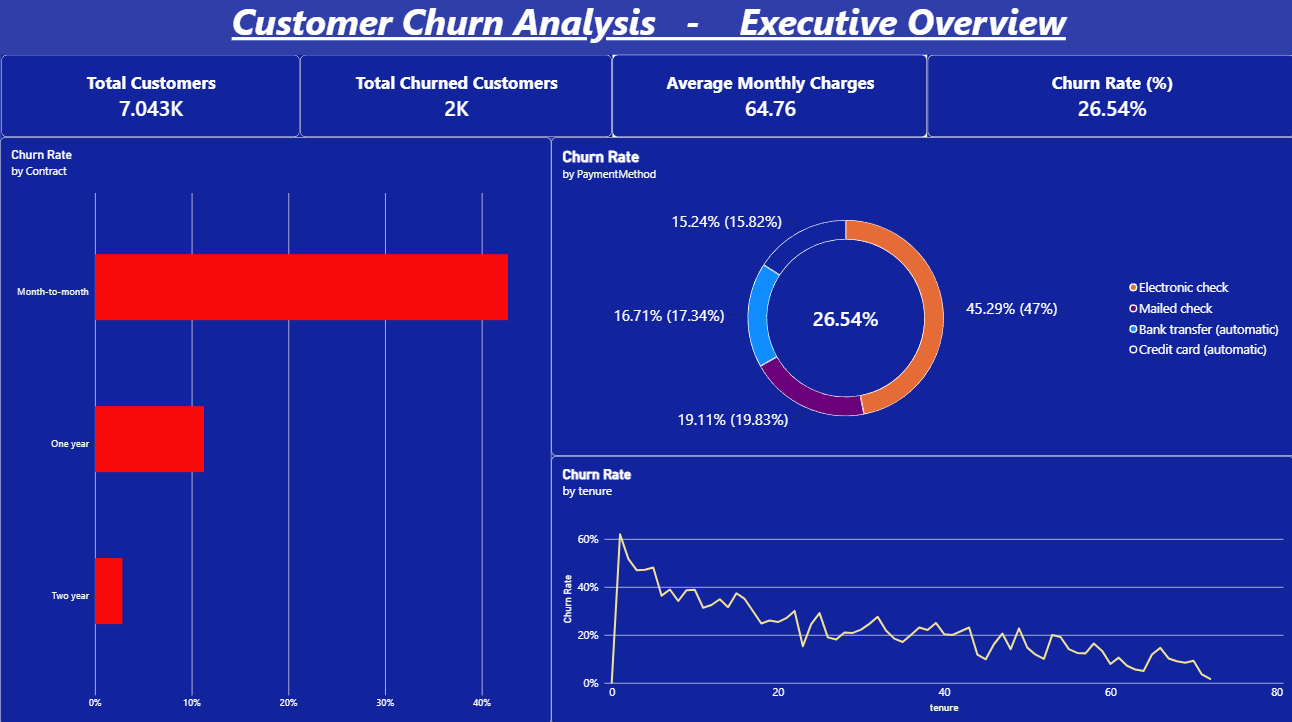

What the dashboard file says about the page in this screenshot:
{"tool":"powerbi","page":{"name":"Executive Overview","canvas":[1920,1080],"ordinal":0},"visuals":[{"type":"cardVisual","title":"Total Customers","fields":{"Data":["CountNonNull(Cleaned_telco_churn.customerID)"]},"box":[1.9,87,442.6,122.2],"z":2},{"type":"cardVisual","fields":{"Data":["Sum(Cleaned_telco_churn.Churn_Numeric)"]},"box":[444.4,87,463,122.2],"z":3},{"type":"cardVisual","fields":{"Data":["Avg(Cleaned_telco_churn.MonthlyCharges)"]},"box":[907.4,87,466.7,122.2],"z":4},{"type":"cardVisual","fields":{"Data":["Cleaned_telco_churn.Churn Rate"]},"box":[1374.1,87,546.3,122.2],"z":5},{"type":"clusteredBarChart","fields":{"Category":["Cleaned_telco_churn.Contract"],"Y":["Cleaned_telco_churn.Churn Rate"]},"box":[0,209.3,816.7,870.4],"z":6},{"type":"donutChart","fields":{"Category":["Cleaned_telco_churn.PaymentMethod"],"Y":["Cleaned_telco_churn.Churn Rate"]},"box":[816.7,209.3,1103.7,472.2],"z":7},{"type":"lineChart","fields":{"Category":["Cleaned_telco_churn.tenure"],"Y":["Cleaned_telco_churn.Churn Rate"]},"box":[816.7,681.5,1101.9,398.1],"z":8},{"type":"textbox","box":[1.9,0,1918.5,87],"z":9}]}

Visuals, with their boxes in screenshot pixels (x1, y1, x2, y2), scaled from the page's 1920x1080 canvas onto the 1292x722 screenshot:
"Total Customers" cardVisual: <region>1, 58, 299, 140</region>
cardVisual - Sum(Cleaned_telco_churn.Churn_Numeric): <region>299, 58, 611, 140</region>
cardVisual - Avg(Cleaned_telco_churn.MonthlyCharges): <region>611, 58, 925, 140</region>
cardVisual - Cleaned_telco_churn.Churn Rate: <region>925, 58, 1291, 140</region>
clusteredBarChart - Cleaned_telco_churn.Contract x Cleaned_telco_churn.Churn Rate: <region>0, 140, 550, 721</region>
donutChart - Cleaned_telco_churn.PaymentMethod x Cleaned_telco_churn.Churn Rate: <region>550, 140, 1291, 456</region>
lineChart - Cleaned_telco_churn.tenure x Cleaned_telco_churn.Churn Rate: <region>550, 456, 1291, 721</region>
textbox: <region>1, 0, 1291, 58</region>
